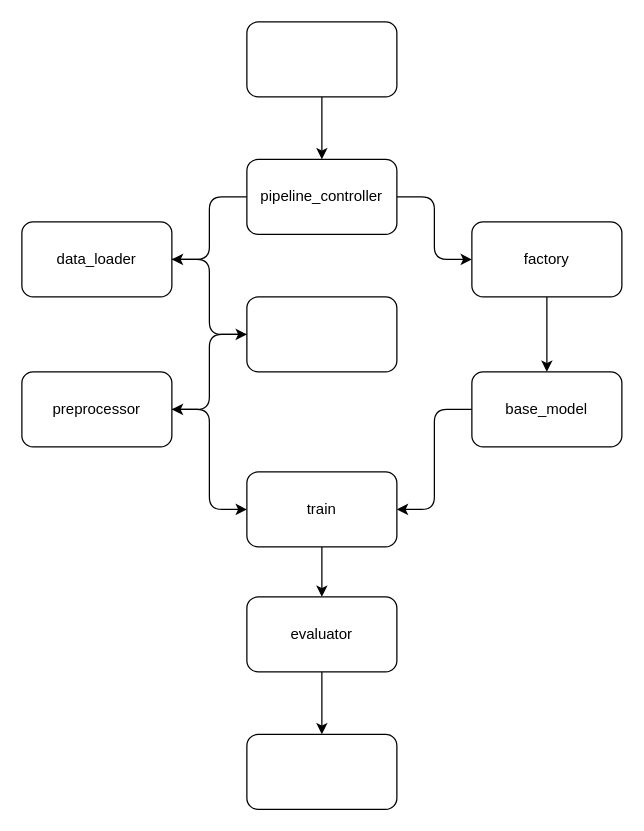
This 644x831 diagram has some shape labels left out. Here are the shapes that lost their labels. From the top down, the centre of each, then its label:
(x=321, y=59): run
(x=321, y=334): feature_engineer
(x=321, y=771): metrics
